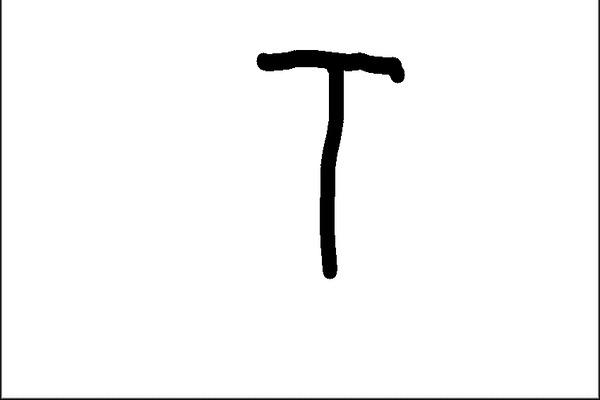T: (251, 43, 408, 280)
